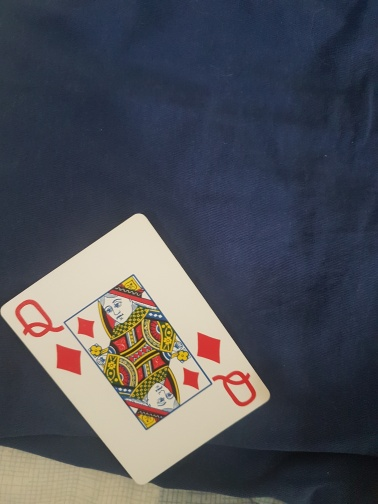queen: (1, 214, 271, 484)
